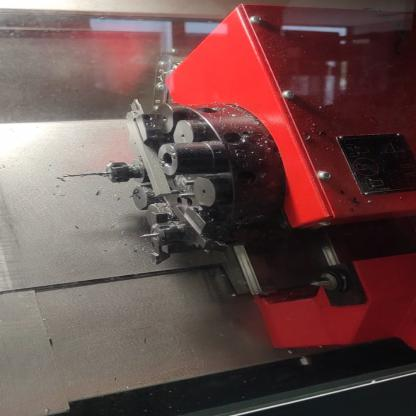bit: (121, 92, 177, 199), (169, 199, 237, 256), (144, 208, 186, 271)
